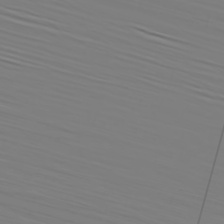cavities: (57, 71, 104, 132)
